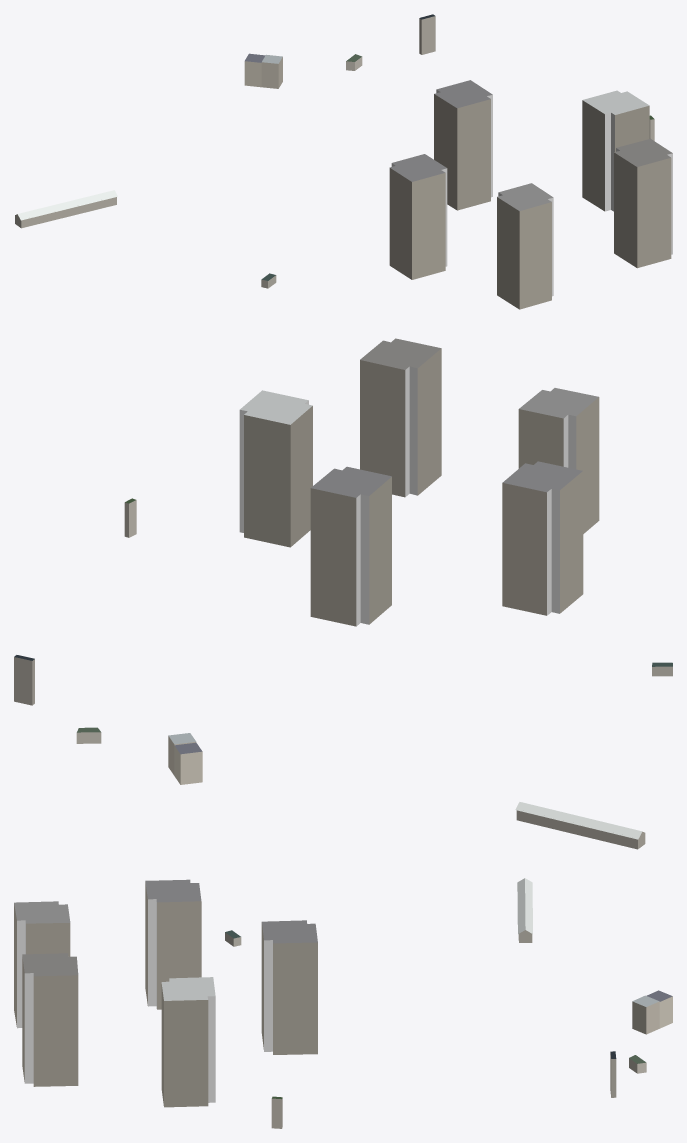
3 renders of one model, top to bottom at view 1: azimuth 30°, elevation 25°; view 2: azimuth 150°, elevation 25°; view 3: azimuth 270°, elevation 25°, orthographic. The views are drawn at different scales.
Parts seen in each view (by area): view 1: tuile; view 2: tuile; view 3: tuile.
Part boxes in pixels (x1,y1,x2,y2): tuile: (15,14,672,309); tuile: (14,338,672,849); tuile: (14,878,672,1128).
Size of the model in its own units: 257 by 62.3 by 257.
